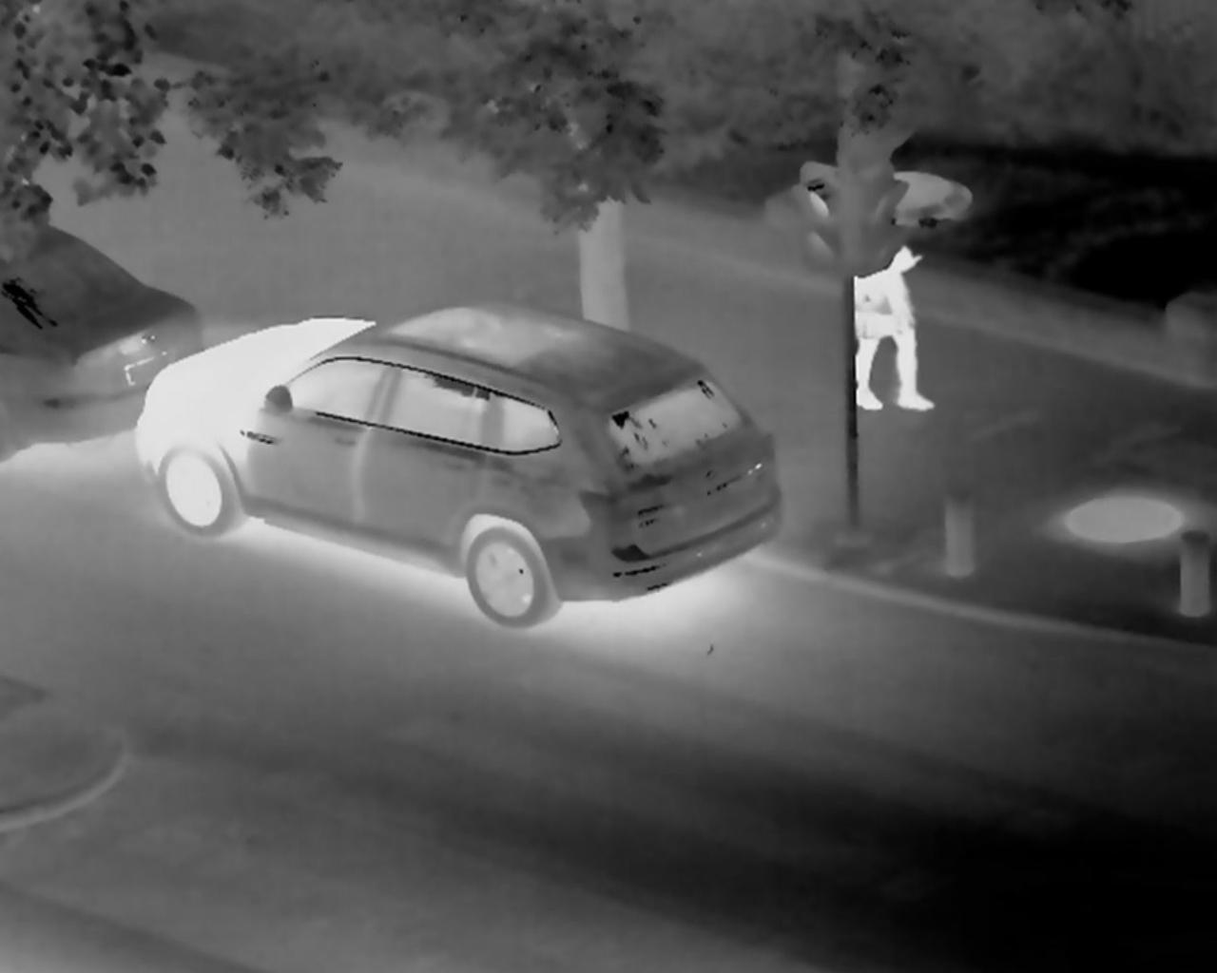person: (840, 198, 937, 465)
